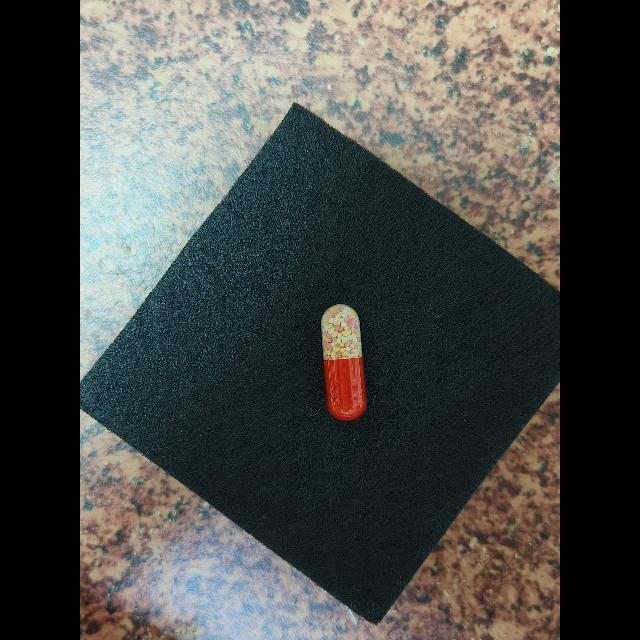Intact Capsule: (321, 304, 366, 421)
